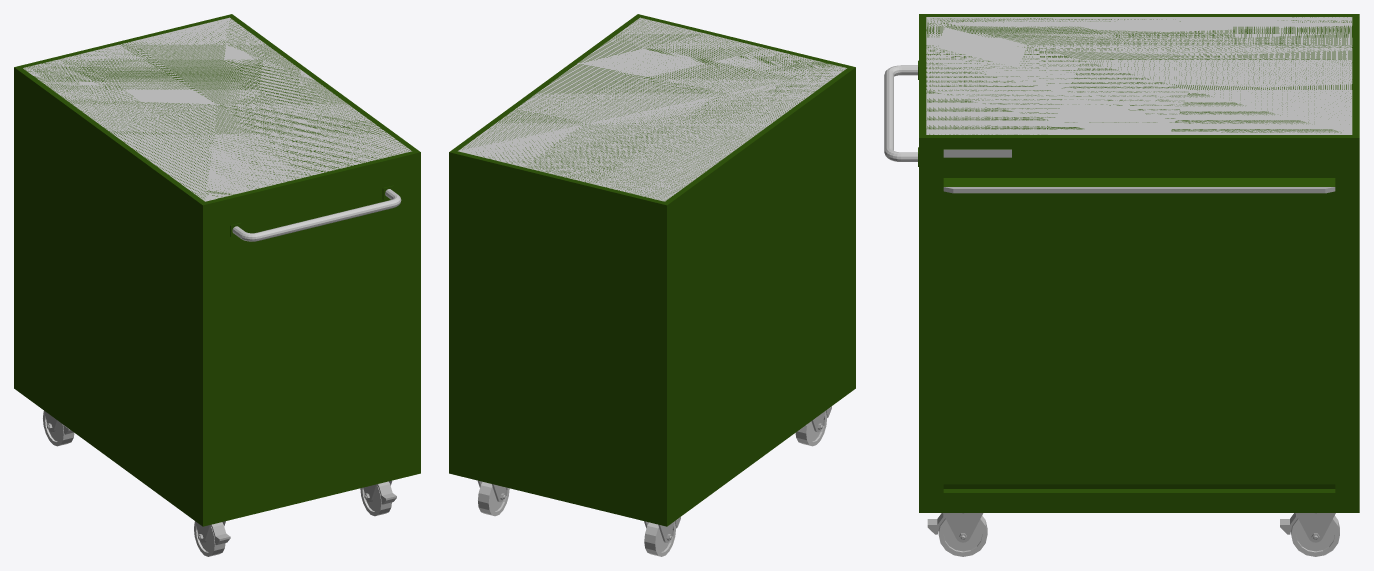
3 renders of one model, left to right at view 1: azimuth 30°, elevation 25°; view 2: azimuth 150°, elevation 25°; view 3: azimuth 270°, elevation 25°, orthographic. The views are drawn at different scales.
Parts seen in each view (by area): view 1: mesh1_mesh1-geometry, mesh8_mesh8-geometry; view 2: mesh1_mesh1-geometry, mesh53_mesh53-geometry, mesh20_mesh20-geometry, mesh42_mesh42-geometry; view 3: mesh13_mesh13-geometry, mesh1_mesh1-geometry, mesh14_mesh14-geometry, mesh5_mesh5-geometry, mesh8_mesh8-geometry, mesh31_mesh31-geometry, mesh20_mesh20-geometry, mesh28_mesh28-geometry, mesh18_mesh18-geometry, mesh6_mesh6-geometry.
Part boxes in pixels (box(x1,y1,x2,y2)): mesh1_mesh1-geometry: box(14, 14, 420, 526); mesh8_mesh8-geometry: box(232, 189, 401, 241); mesh1_mesh1-geometry: box(449, 14, 855, 526); mesh53_mesh53-geometry: box(644, 521, 675, 556); mesh20_mesh20-geometry: box(478, 482, 509, 516); mesh42_mesh42-geometry: box(795, 411, 826, 446); mesh13_mesh13-geometry: box(943, 191, 1335, 488); mesh1_mesh1-geometry: box(919, 14, 1359, 512); mesh14_mesh14-geometry: box(943, 178, 1335, 186); mesh5_mesh5-geometry: box(943, 187, 1335, 193); mesh8_mesh8-geometry: box(884, 65, 917, 161); mesh31_mesh31-geometry: box(938, 515, 987, 556); mesh20_mesh20-geometry: box(1291, 515, 1339, 556); mesh28_mesh28-geometry: box(943, 513, 983, 542); mesh18_mesh18-geometry: box(1295, 513, 1335, 542); mesh6_mesh6-geometry: box(943, 149, 1011, 157).
Size of the model in its own units: 0.4061 by 0.6458 by 0.6465.
